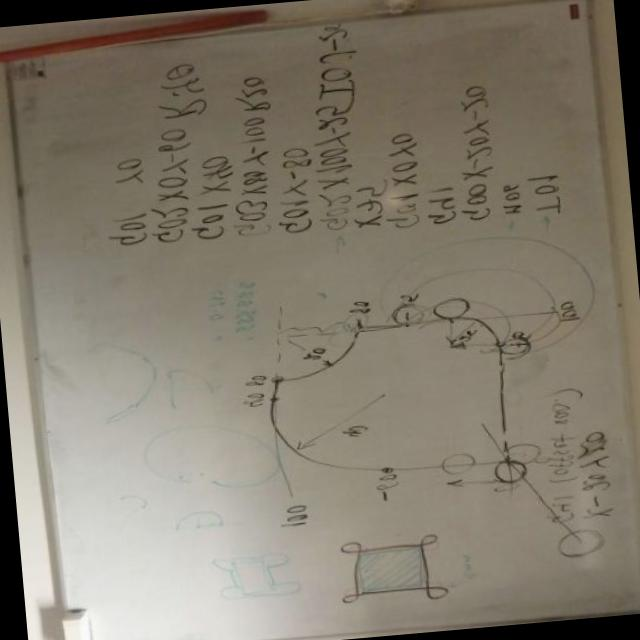White-board: (4, 0, 640, 640)
